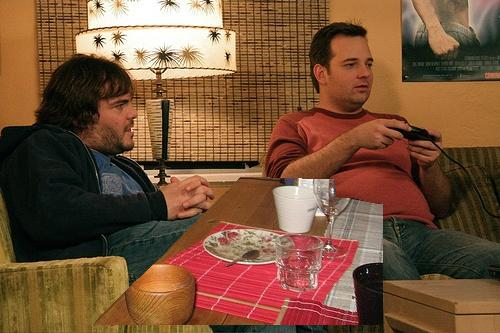tampered: (93, 178, 383, 325)
